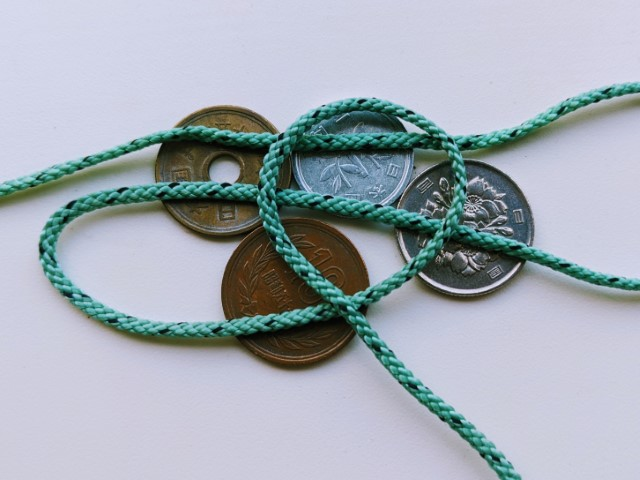100yen: (395, 159, 534, 298)
10yen: (221, 218, 370, 367)
1yen: (291, 106, 413, 220)
5yen: (156, 106, 291, 238)
